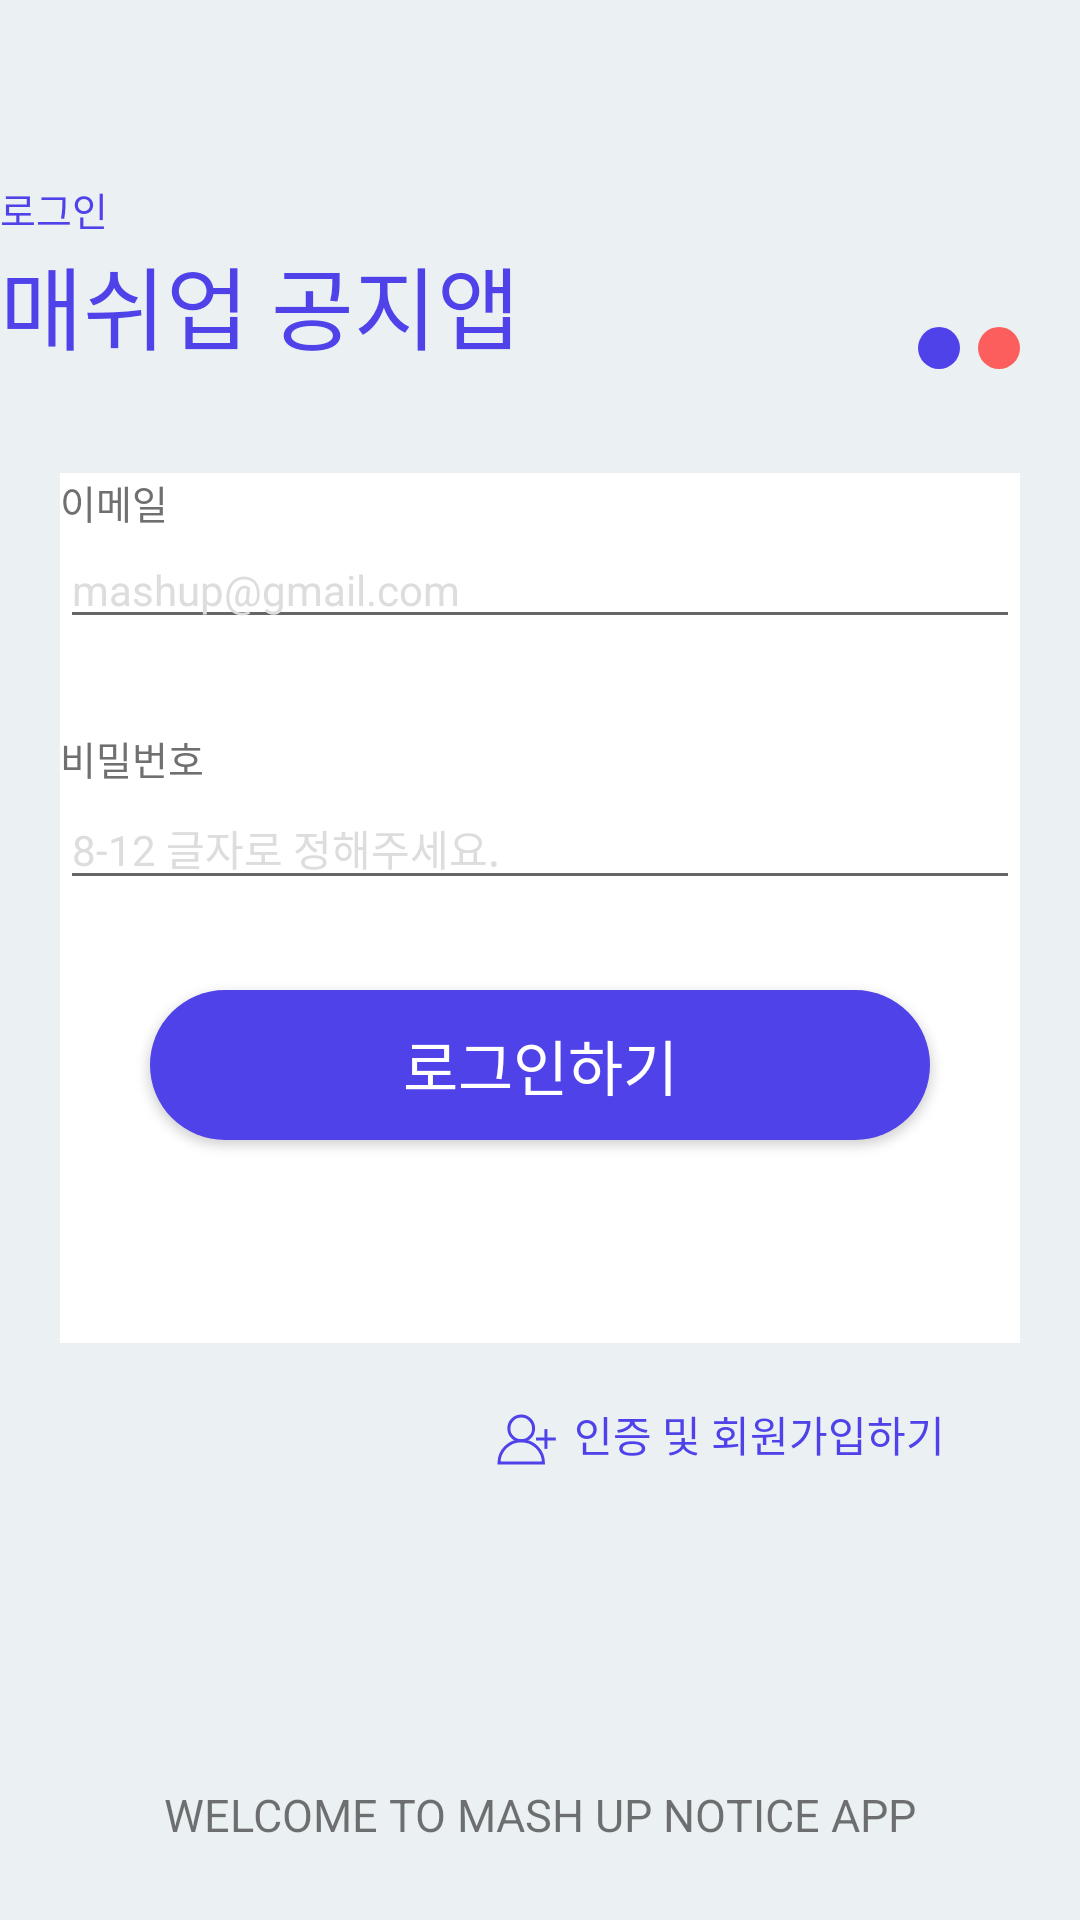

Icons on this 1080 x 1920 Android screen, each with its box as [left=x1, top=y1, right=x2, bottom=y2]:
join: [left=497, top=1414, right=556, bottom=1465]
